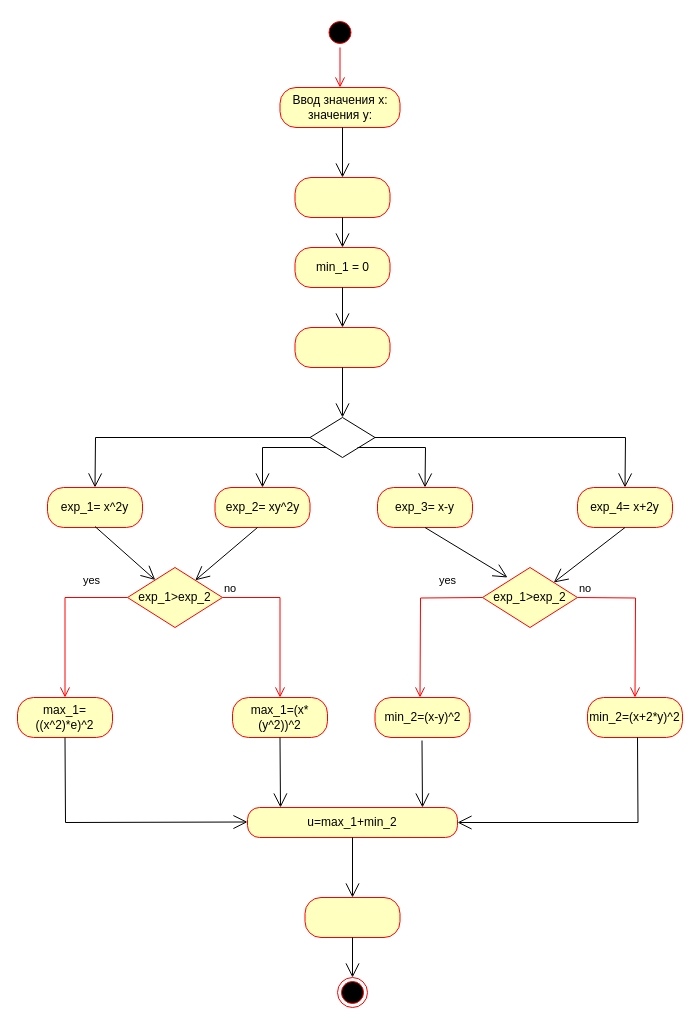
This 700x1025 diagram has some shape labels left out. The shapes that lost their labels are listed below. From the top down, each one's box as (x1, y1, x2, y2) in pixels, then its label:
(294, 176, 390, 218): max_1 = 0
(294, 326, 390, 368): u = 0
(304, 896, 400, 938): вывод u
